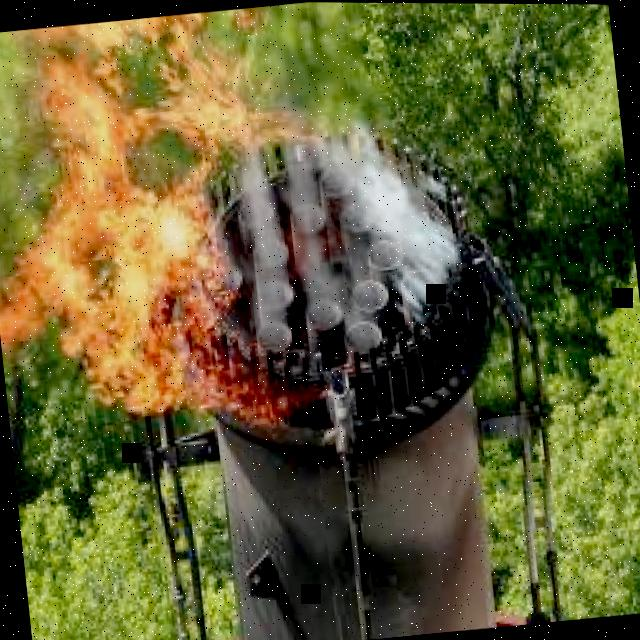fire: (0, 7, 323, 426)
